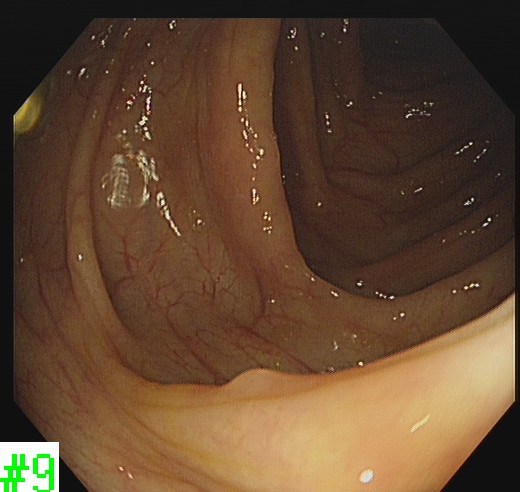others: (221, 366, 295, 394)
